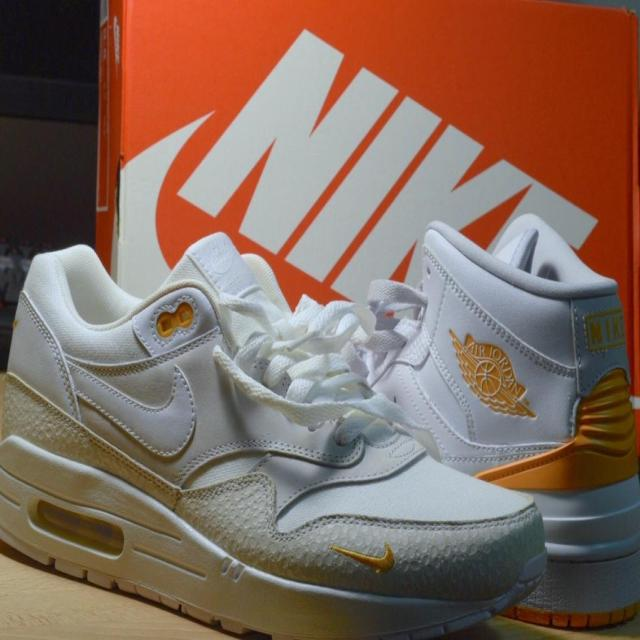shoe: (0, 224, 550, 639)
